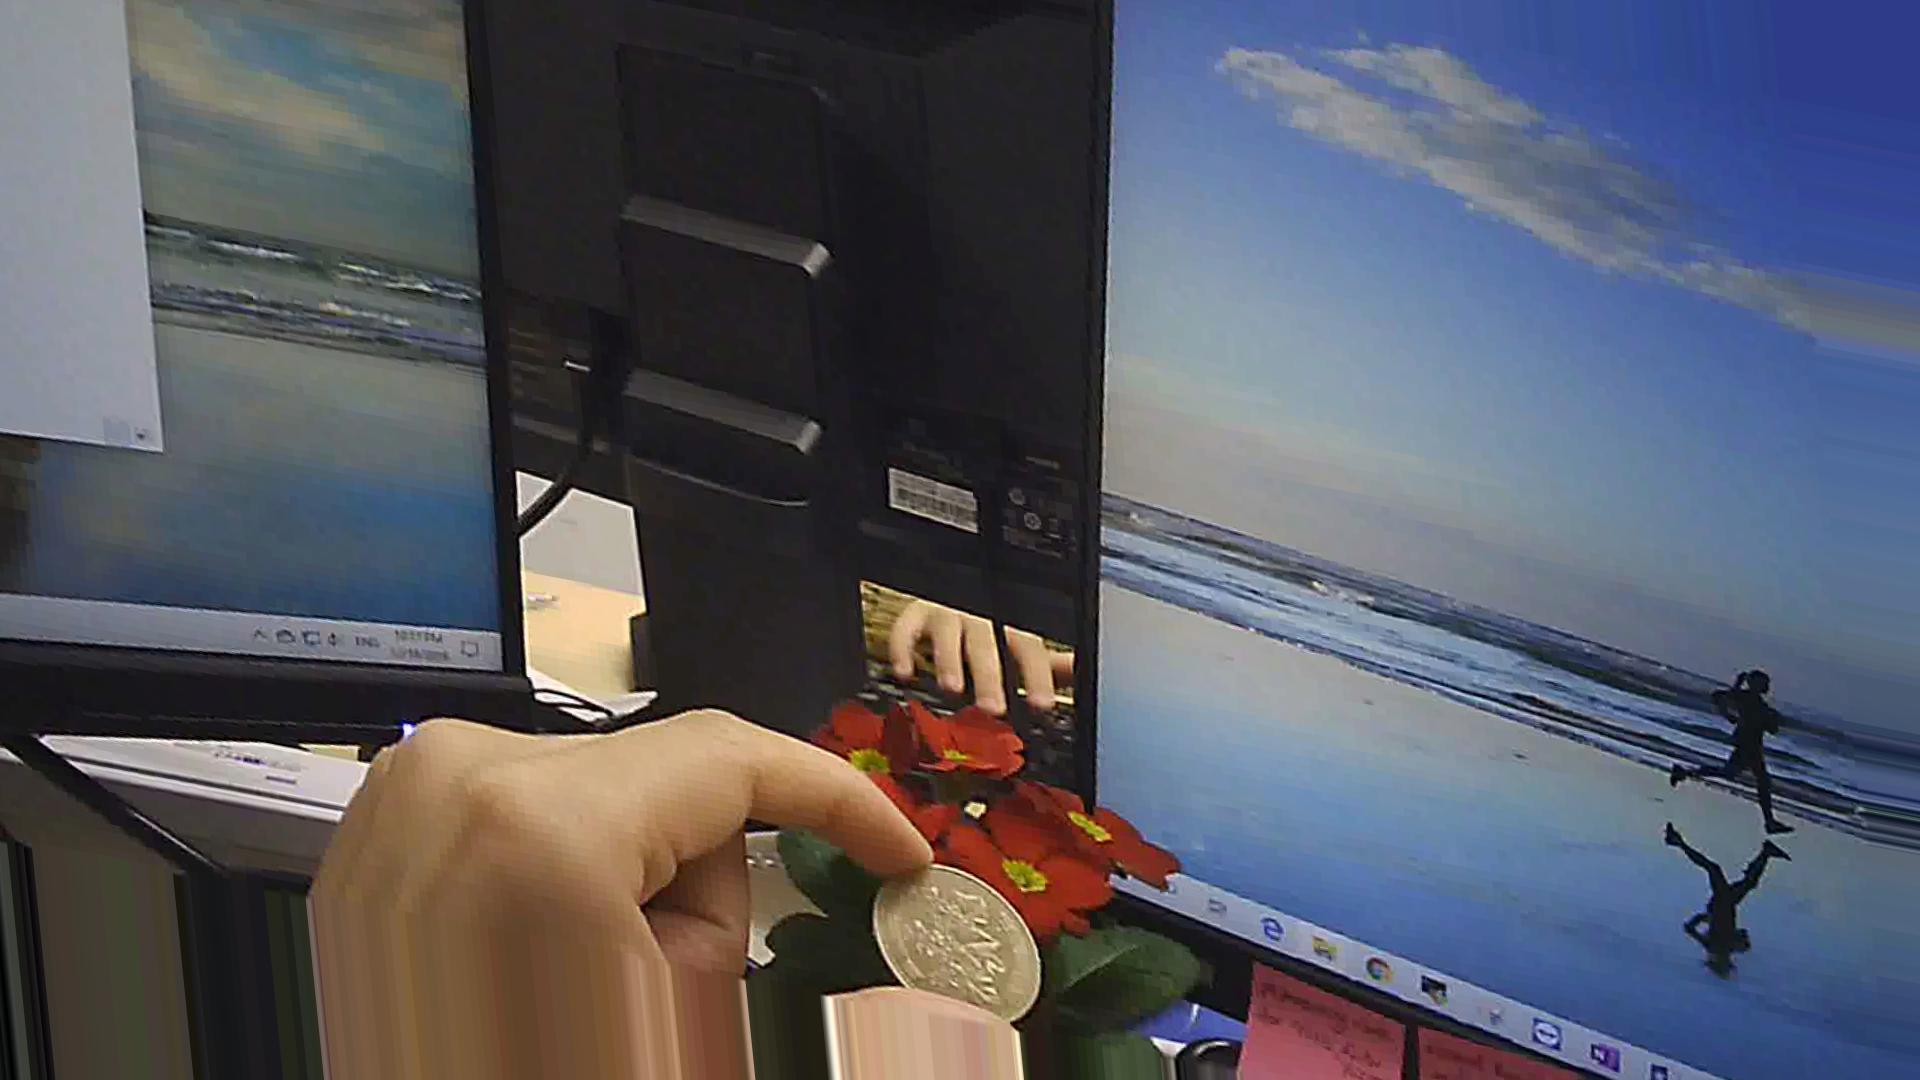500 Yen: (864, 851, 1054, 1025)
